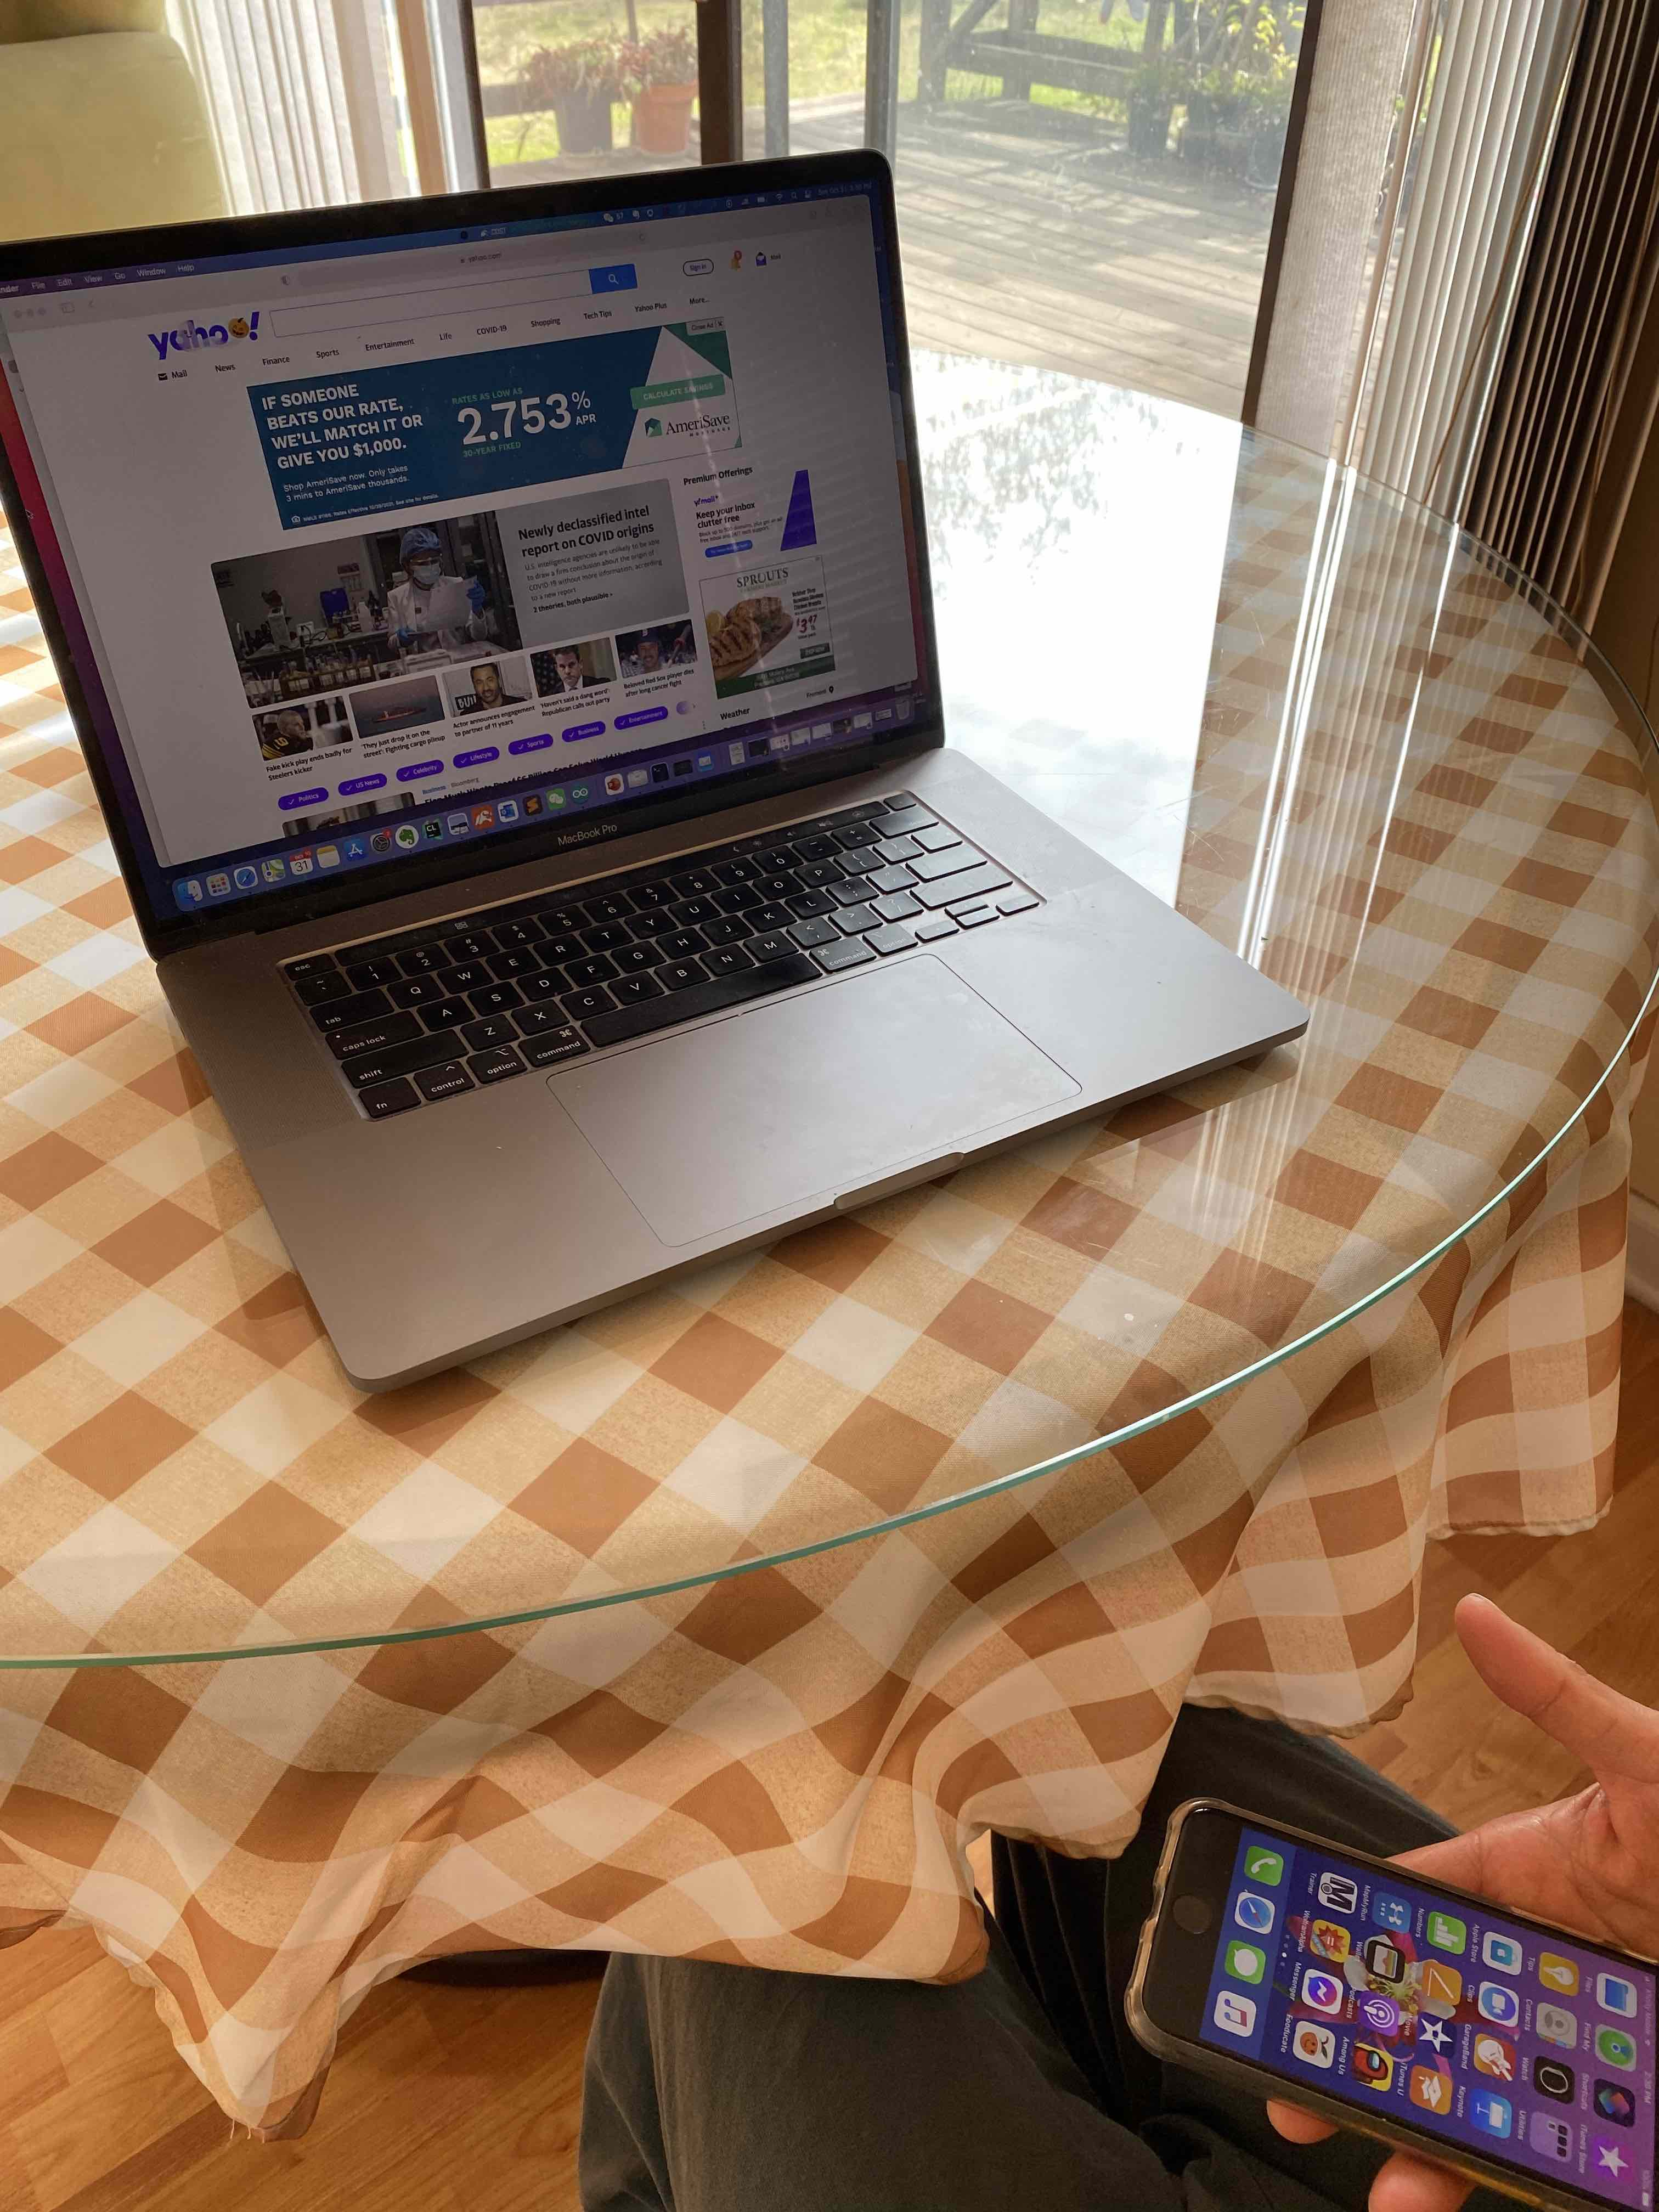Cell Phone: (1117, 1797, 1659, 2212)
